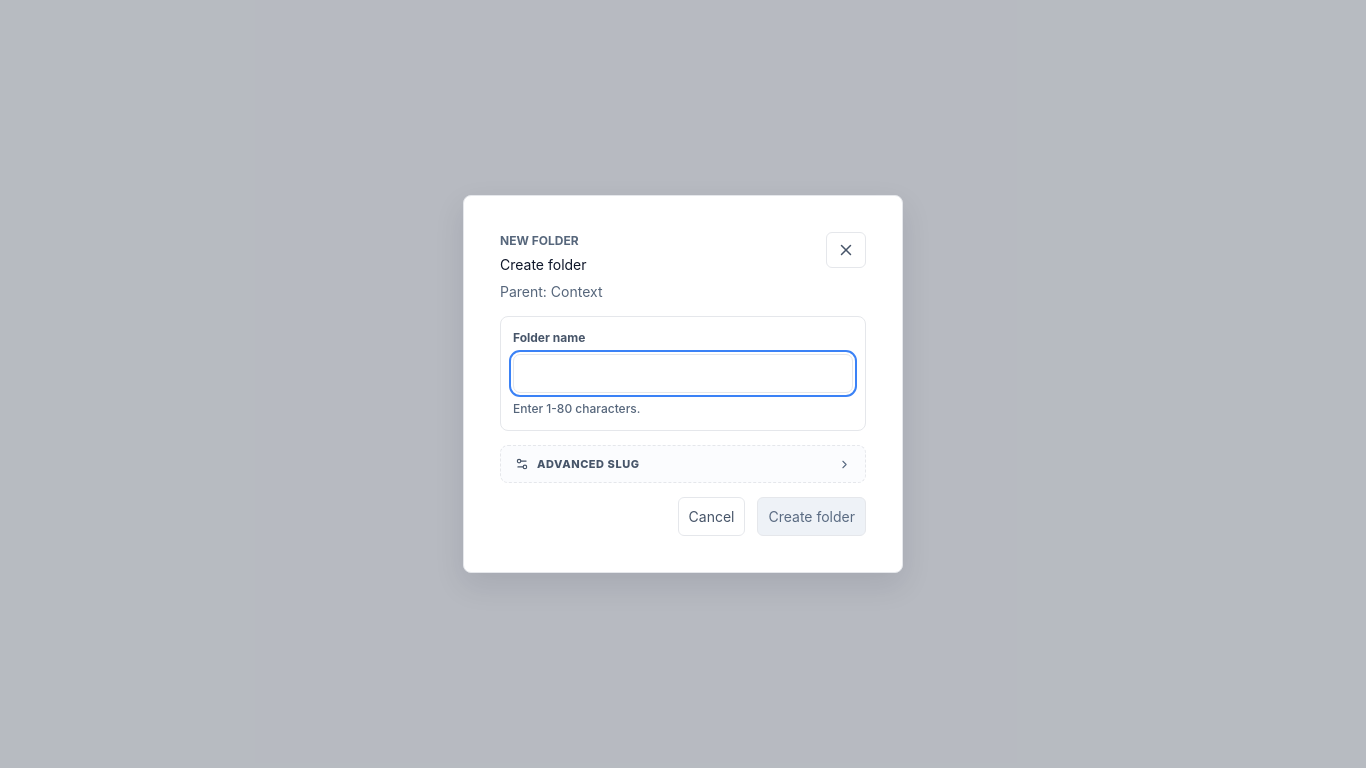
Test: NewFolderDialog › uses a localized fallback instead of exposing an unexpected error message
Type "Research" into the field labelled "Folder name Enter 1-80 characters." at {"x": 683, "y": 373}, box x1=513 y1=354 x2=853 y2=393
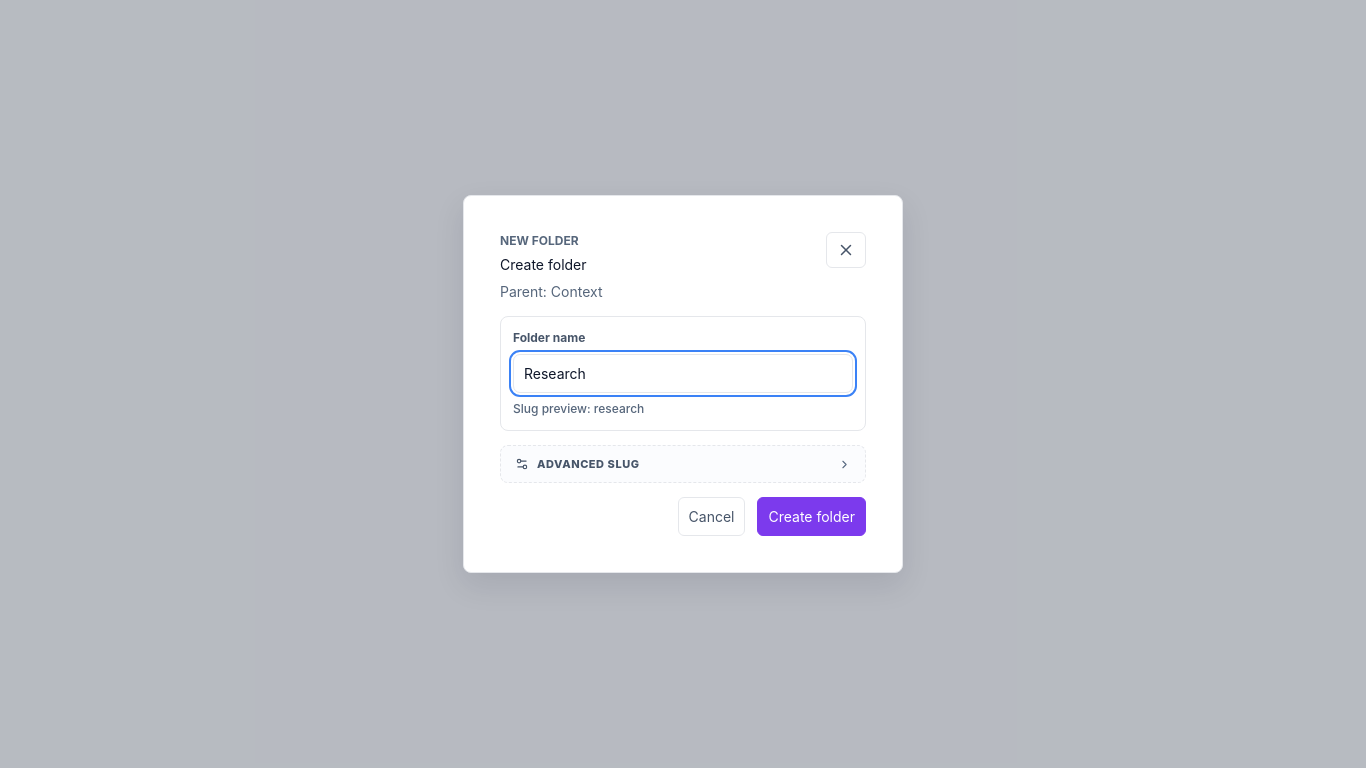
Click the button "Create folder" at {"x": 812, "y": 517}, box x1=758 y1=497 x2=866 y2=536
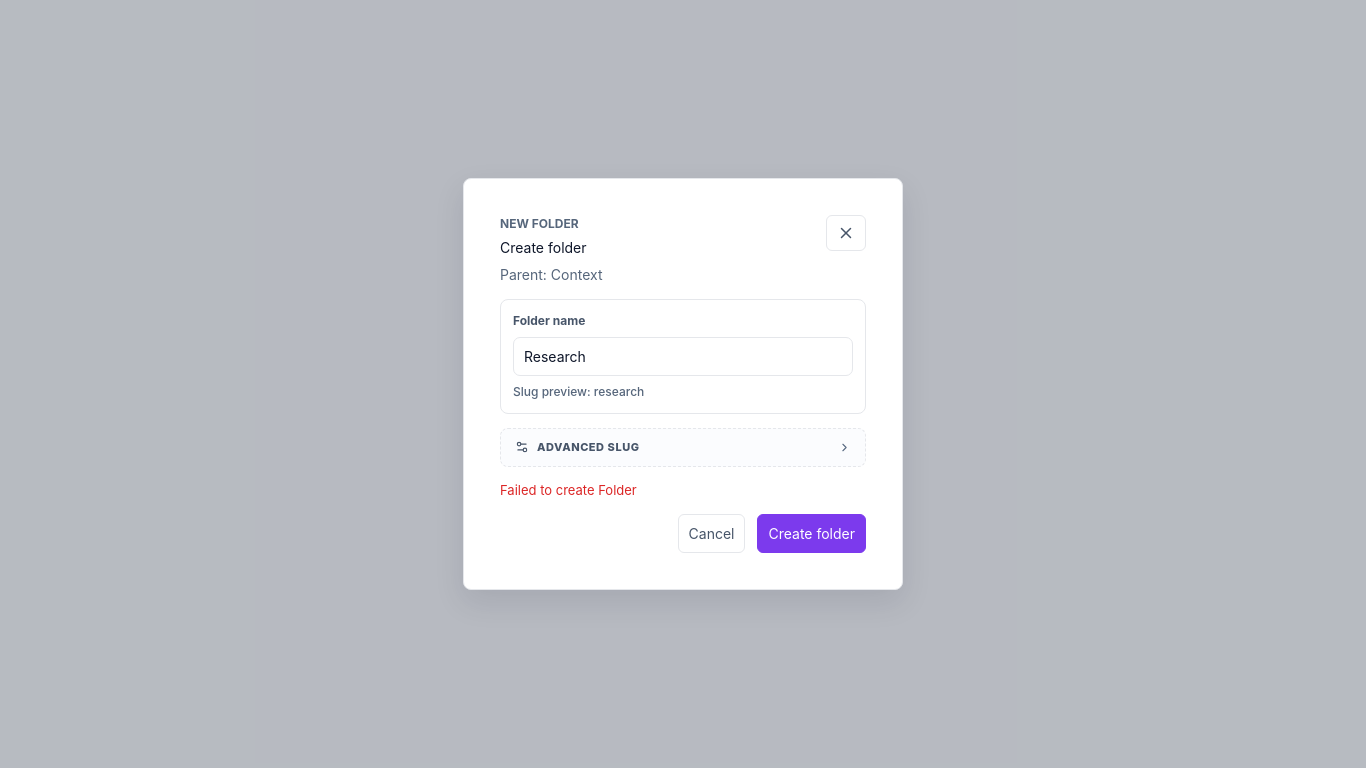
Now the text "Failed to create Folder" is shown, box x1=500 y1=482 x2=637 y2=498
